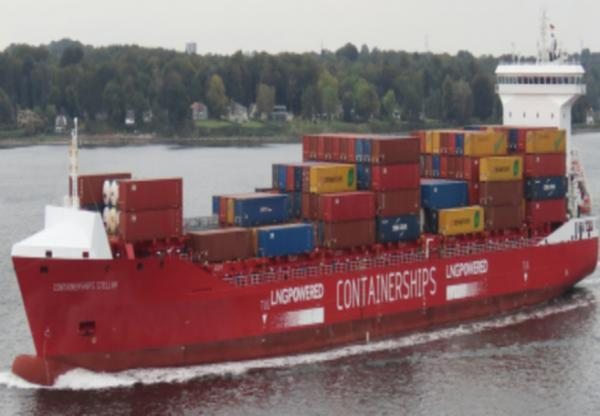Container Ship: (8, 10, 599, 387)
